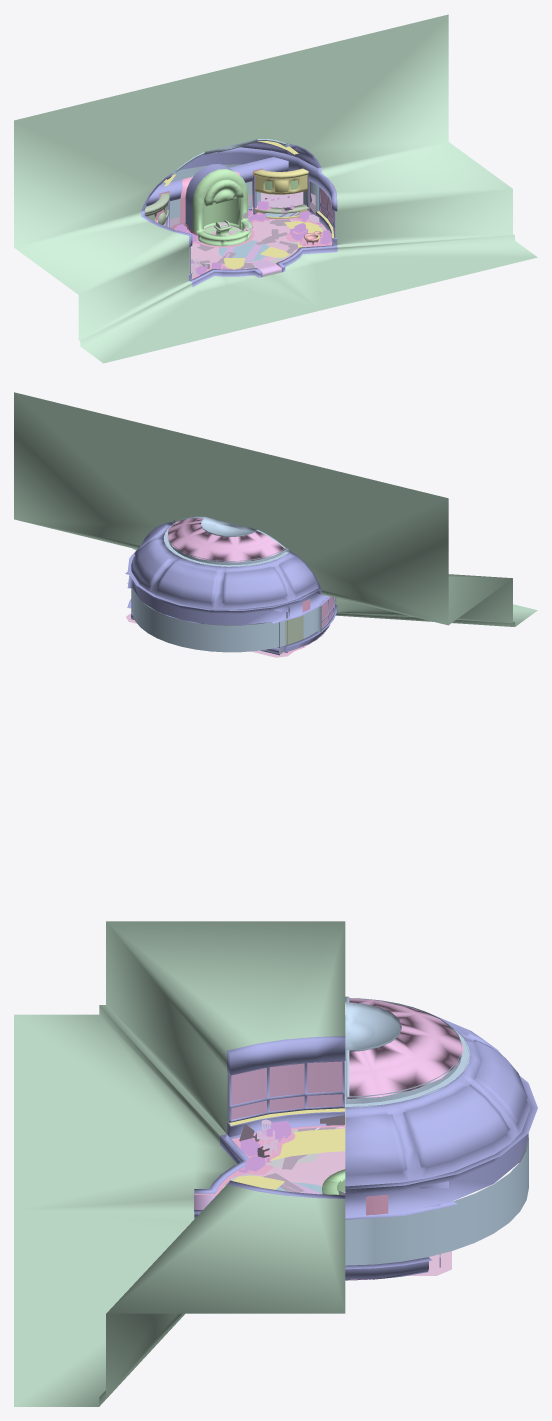
The model's file is center.fbx.
The picture shows the model from 3 angles, top to bottom: view 1: azimuth 30°, elevation 25°; view 2: azimuth 150°, elevation 25°; view 3: azimuth 270°, elevation 25°; orthographic projection. The views are drawn at different scales.
Parts seen in each view (by area): view 1: center; view 2: center; view 3: center.
Part boxes in pixels (x1,y1,x2,y2): center: [14, 14, 537, 363]; center: [14, 392, 537, 657]; center: [14, 921, 537, 1406].
Size of the model in its own units: 4430 by 1730 by 2500.
